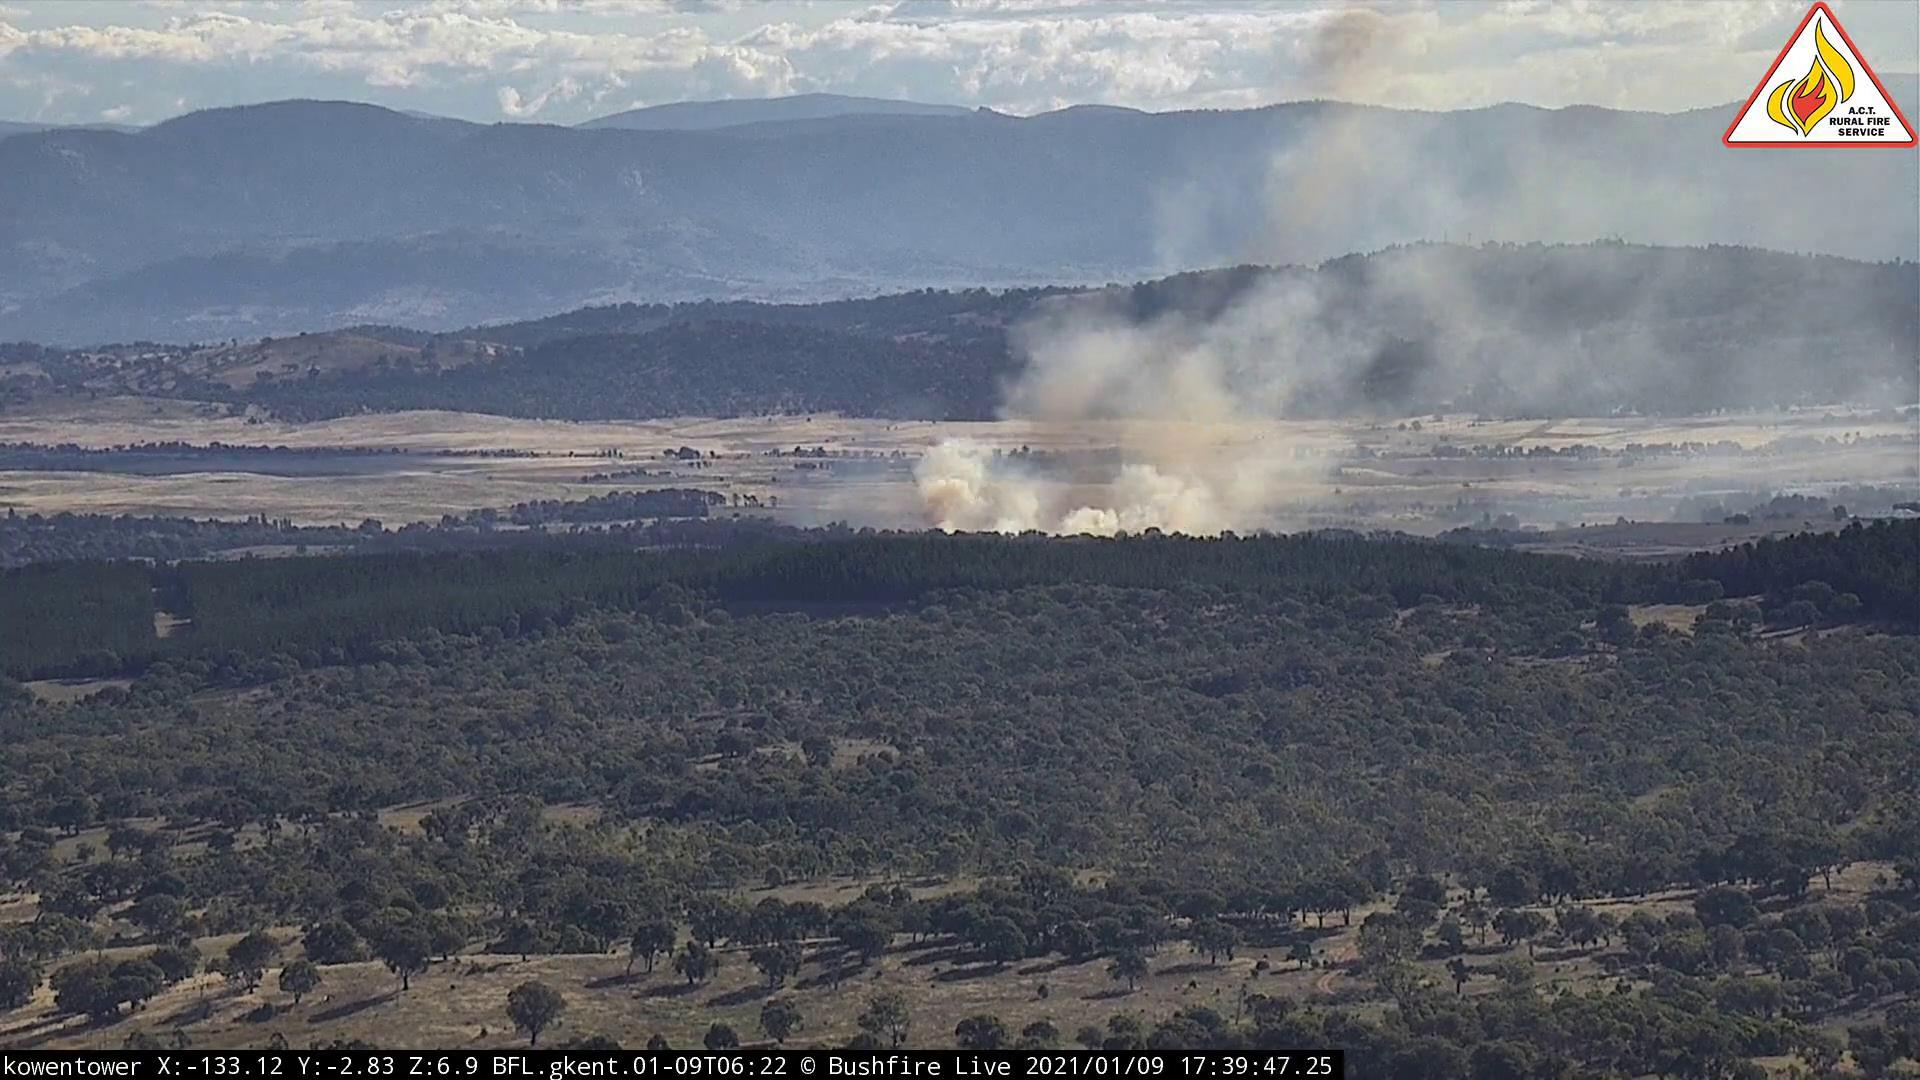Smoke: (811, 7, 1717, 542)
